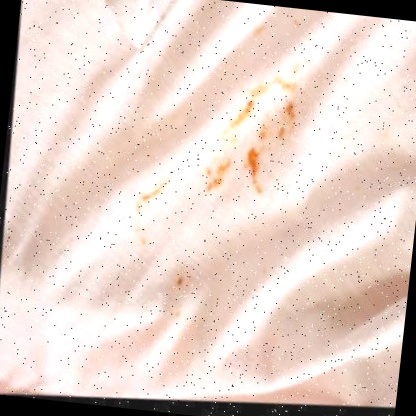kimchi: (126, 205, 156, 252), (242, 149, 270, 197), (201, 159, 234, 198), (134, 177, 176, 204), (250, 77, 298, 97), (279, 98, 303, 130), (218, 116, 248, 134), (252, 23, 271, 42), (274, 125, 291, 144), (235, 99, 255, 115), (170, 271, 188, 288), (256, 120, 269, 140), (290, 61, 305, 78), (291, 18, 307, 33), (173, 307, 187, 322), (378, 128, 388, 139)
